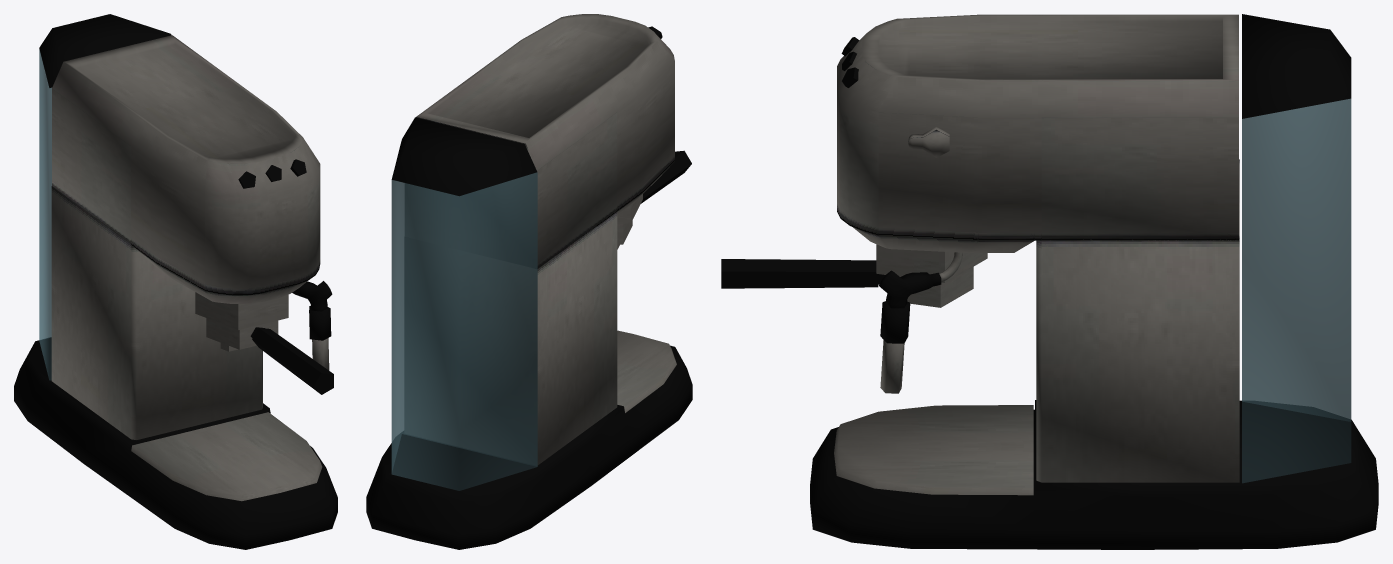
The model's file is coffee_machine.glb.
3 views of the same model, side by side, from view 1: azimuth 30°, elevation 25°; view 2: azimuth 150°, elevation 25°; view 3: azimuth 270°, elevation 25° (orthographic). The views are drawn at different scales.
Parts seen in each view (by area): view 1: CoffeeMachine; view 2: CoffeeMachine; view 3: CoffeeMachine.
Boxes of the visible parts, bbox=[...] form: CoffeeMachine: bbox=[14, 14, 337, 549]; CoffeeMachine: bbox=[366, 14, 692, 549]; CoffeeMachine: bbox=[721, 14, 1378, 549].
Size of the model in its own units: 0.1317 by 0.3007 by 0.3928.
4 materials, 2 textured.
